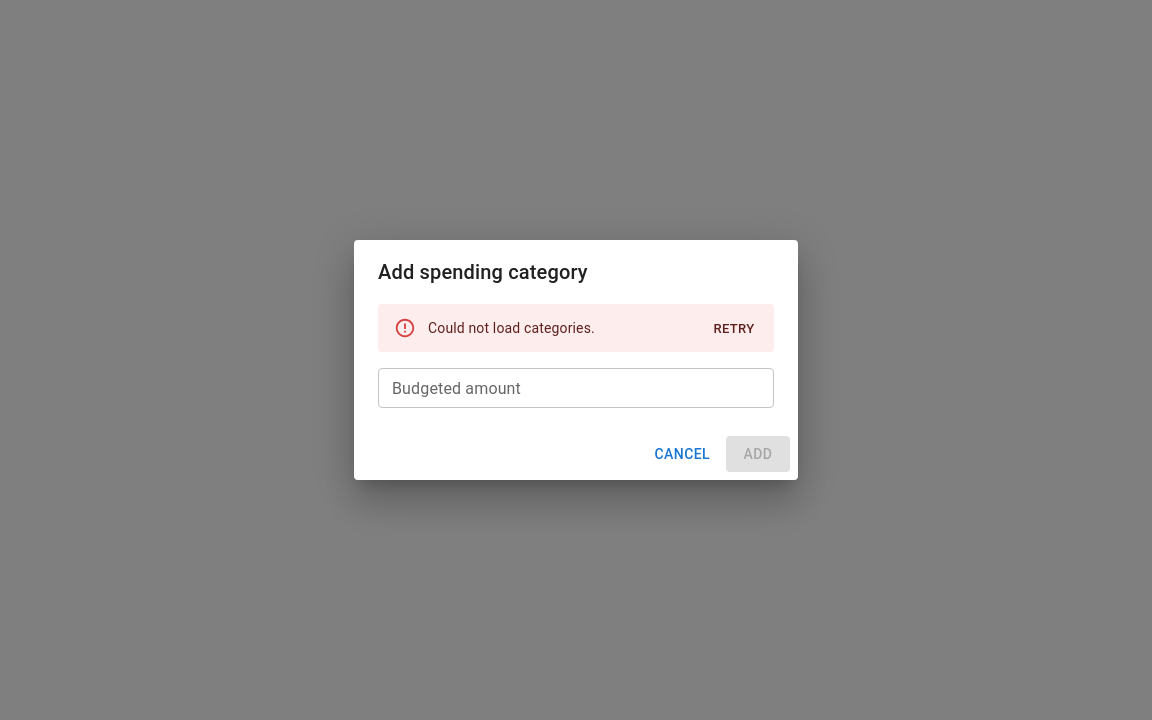
Test: CreateBudgetLineDialog category fetch state › shows an error with a retry action instead of an empty picker on failure
expect the text "Could not load categories." is shown: met, box [428,320,595,336]
Click the button "Retry". click: (734, 329)
box: [702,314,766,344]
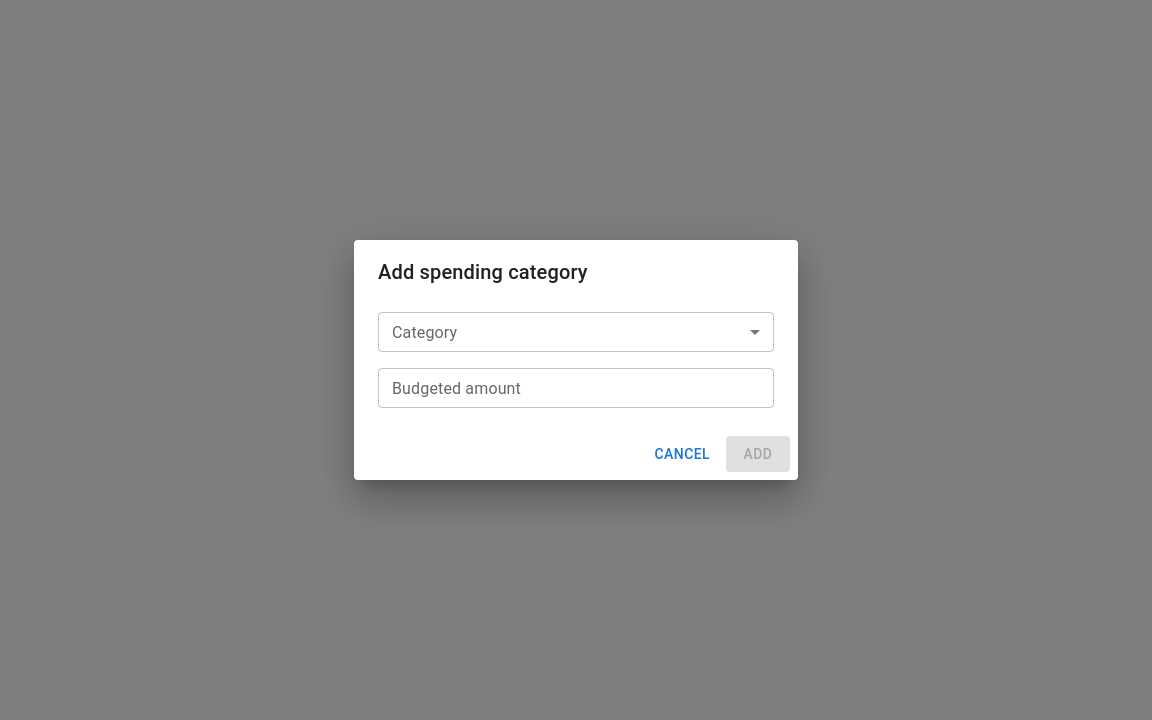
expect the dropdown named "category" is shown: met, box [378,312,774,352]
